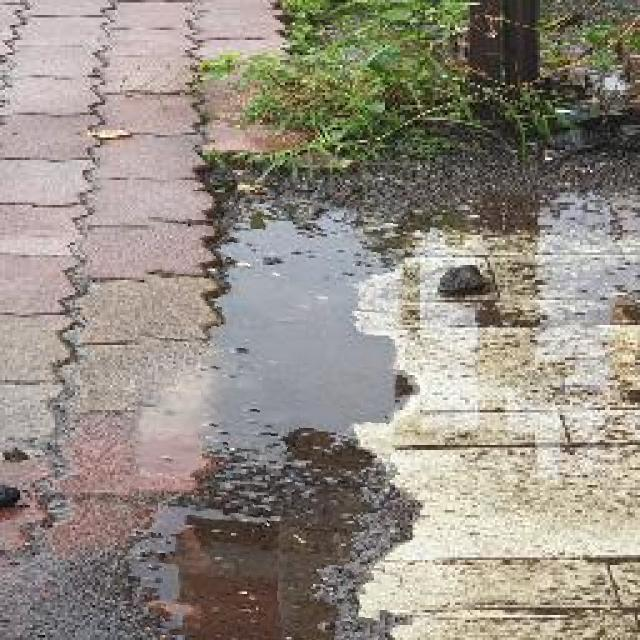puddle: (129, 193, 403, 640)
